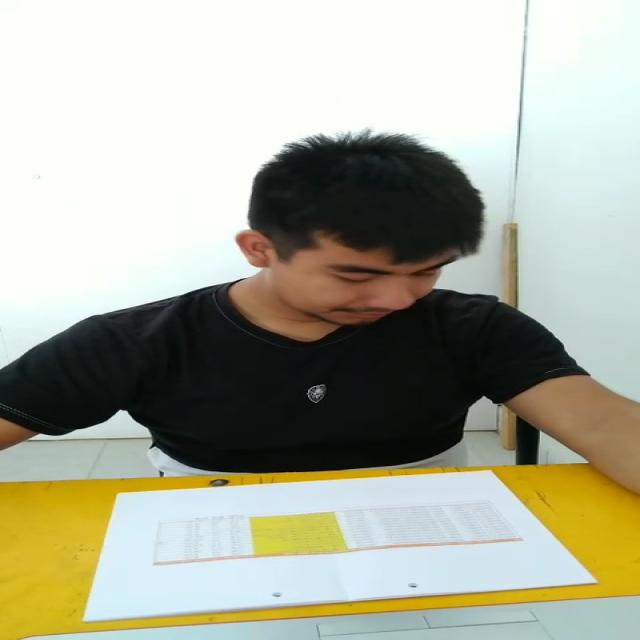9_cabeza_baja: (231, 130, 483, 326)
